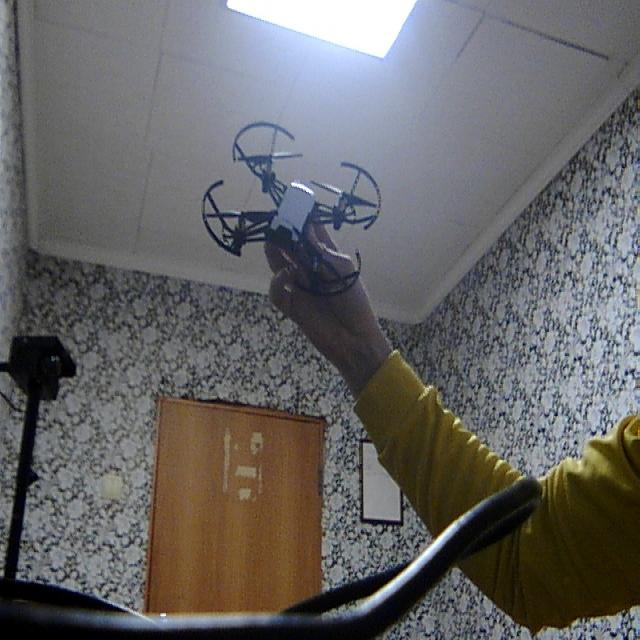drone: (195, 106, 392, 312)
